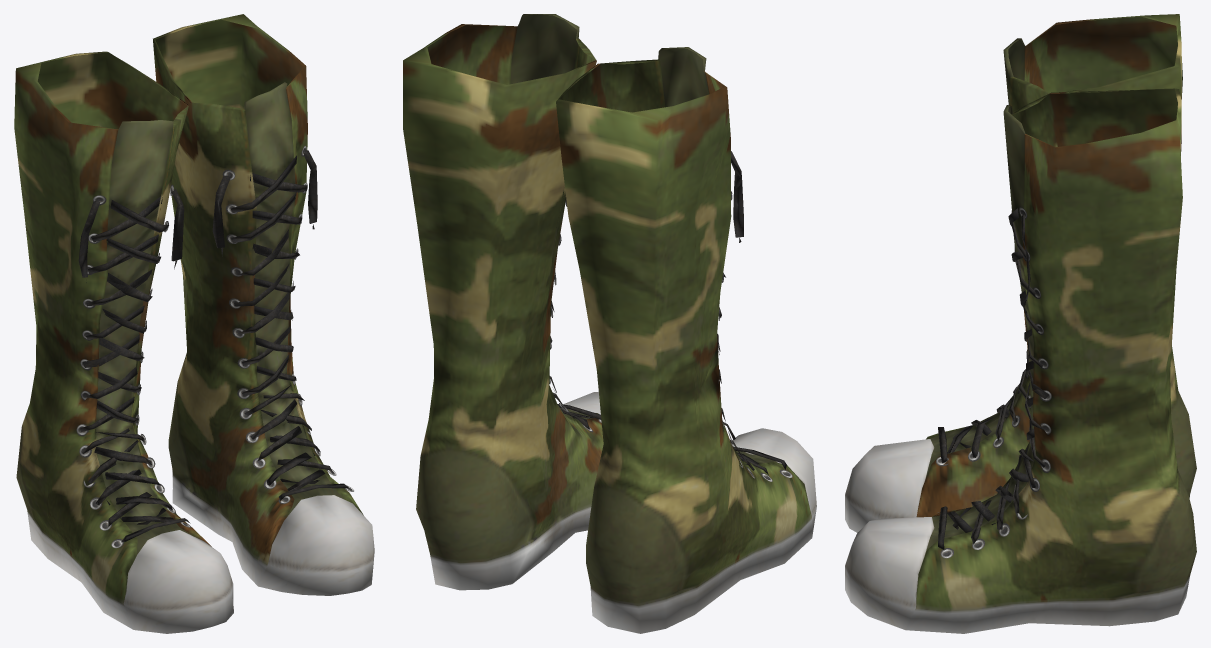
File: CalfConverse_Ground.fbx
The picture shows the model from 3 angles, left to right: view 1: azimuth 30°, elevation 25°; view 2: azimuth 150°, elevation 25°; view 3: azimuth 270°, elevation 25°; orthographic projection. The views are drawn at different scales.
Parts seen in each view (by area): view 1: CalfConverse; view 2: CalfConverse; view 3: CalfConverse.
Boxes of the visible parts, x1,y1,x2,y2 form: CalfConverse: (14,14,374,633); CalfConverse: (403,14,816,633); CalfConverse: (845,14,1196,633).
Size of the model in its own units: 0.1109 by 0.1979 by 0.1258.
